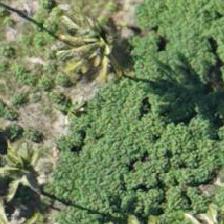coconut_tree: (47, 0, 137, 80), (0, 112, 68, 202)
